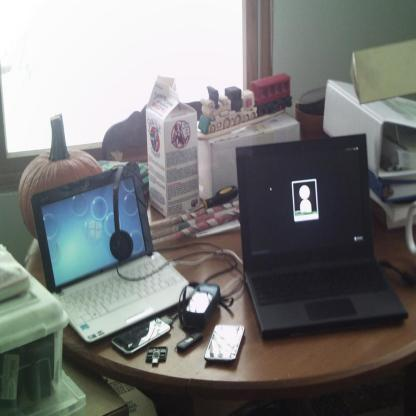board: (242, 127, 402, 344), (30, 162, 196, 346), (147, 76, 199, 220)
